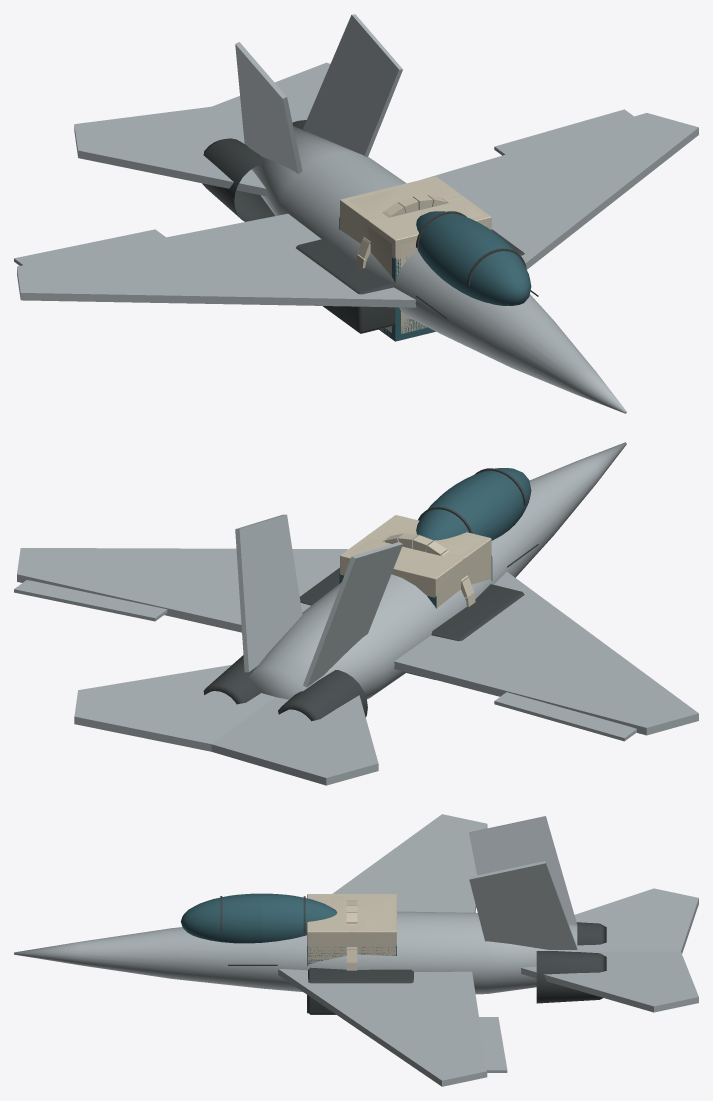
The model's file is siege-library.glb.
3 renders of one model, top to bottom at view 1: azimuth 30°, elevation 25°; view 2: azimuth 150°, elevation 25°; view 3: azimuth 270°, elevation 25°, orthographic. The views are drawn at different scales.
Visible parts, largest first — view 1: airframe, engine-and-panel-detail, canopy, module_lod0, coping_lod0, aileron-right, aileron-left, arch-trim_lod0, window_lod0; view 2: airframe, engine-and-panel-detail, canopy, module_lod0, aileron-right, aileron-left, coping_lod0, arch-trim_lod0; view 3: airframe, canopy, engine-and-panel-detail, module_lod0, coping_lod0, aileron-right, arch-trim_lod0.
Boxes of the visible parts, x1=… form: airframe: x1=17, y1=14, x2=698, y2=413; engine-and-panel-detail: x1=202, y1=120, x2=538, y2=333; canopy: x1=416, y1=211, x2=531, y2=305; module_lod0: x1=340, y1=176, x2=491, y2=335; coping_lod0: x1=349, y1=188, x2=486, y2=333; aileron-right: x1=494, y1=109, x2=633, y2=155; aileron-left: x1=14, y1=229, x2=165, y2=265; arch-trim_lod0: x1=356, y1=195, x2=448, y2=268; window_lod0: x1=339, y1=217, x2=435, y2=341; airframe: x1=17, y1=442, x2=698, y2=785; engine-and-panel-detail: x1=203, y1=468, x2=538, y2=721; canopy: x1=416, y1=468, x2=531, y2=540; module_lod0: x1=340, y1=515, x2=491, y2=607; aileron-right: x1=14, y1=580, x2=167, y2=621; aileron-left: x1=494, y1=692, x2=636, y2=741; coping_lod0: x1=345, y1=525, x2=482, y2=572; arch-trim_lod0: x1=383, y1=533, x2=475, y2=606; airframe: x1=14, y1=814, x2=698, y2=1086; canopy: x1=180, y1=893, x2=337, y2=943; engine-and-panel-detail: x1=220, y1=896, x2=606, y2=1014; module_lod0: x1=307, y1=894, x2=396, y2=964; coping_lod0: x1=312, y1=896, x2=391, y2=962; aileron-right: x1=479, y1=1017, x2=507, y2=1072; arch-trim_lod0: x1=346, y1=900, x2=357, y2=970.
Size of what is drawn, in the model's own units: 14 by 3.81 by 15.2.
